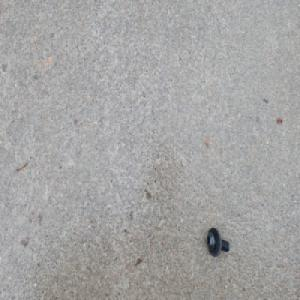BoltWasher: (206, 227, 229, 258)
